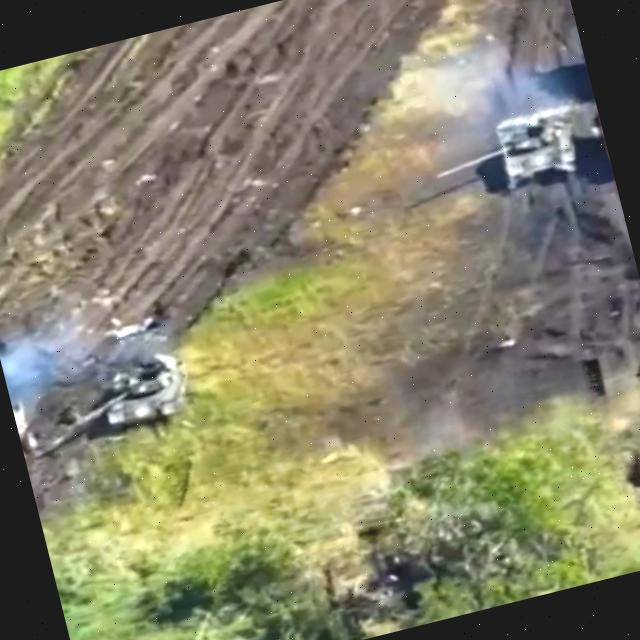MBT: (429, 101, 586, 213), (60, 342, 200, 447)
